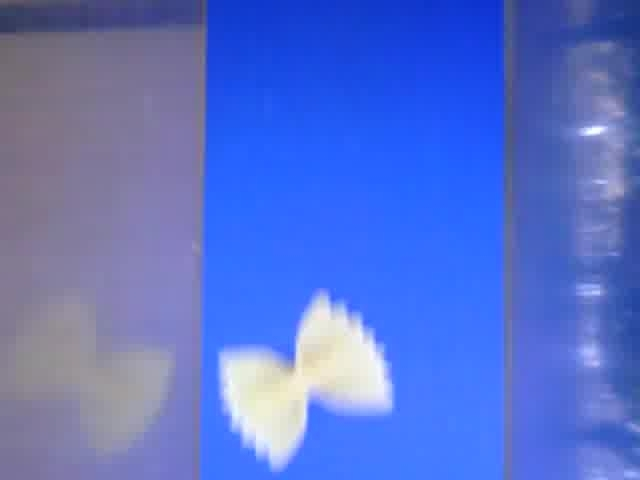farfalle: (219, 291, 394, 467)
